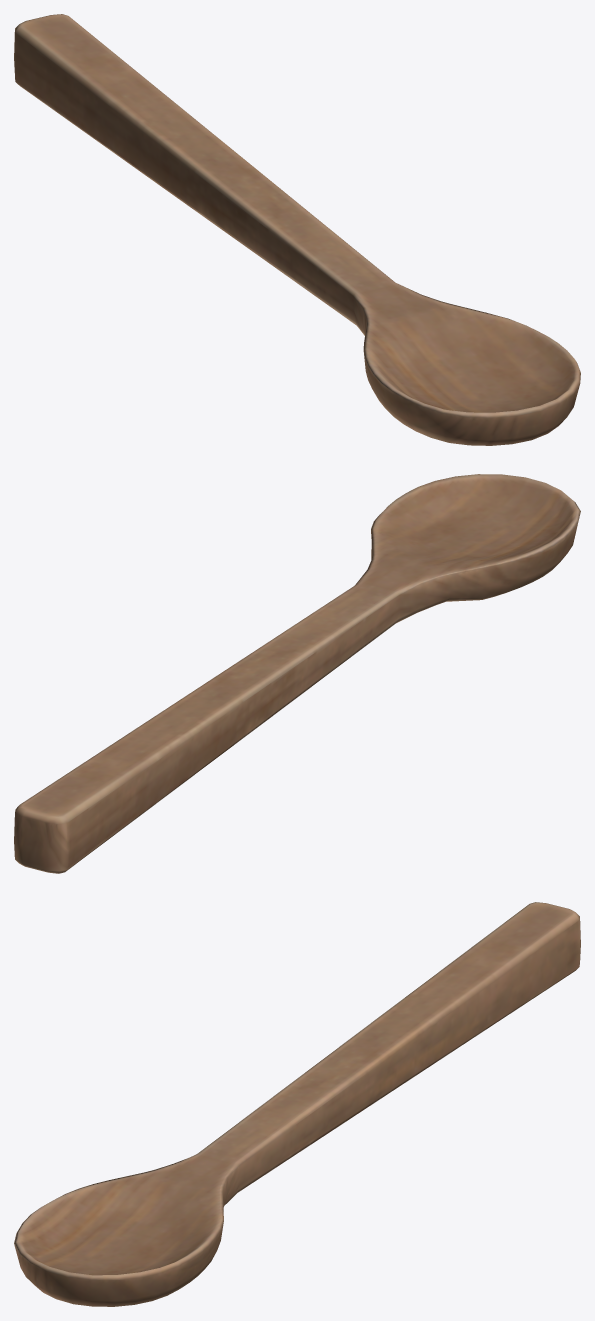
File: SM_KitchenUstensil_Spoon.fbx
3 views of the same model, one above another, from view 1: azimuth 30°, elevation 25°; view 2: azimuth 150°, elevation 25°; view 3: azimuth 330°, elevation 25° (orthographic). The views are drawn at different scales.
Parts seen in each view (by area): view 1: SM_KitchenUstensil_Spoon_LOD0; view 2: SM_KitchenUstensil_Spoon_LOD0; view 3: SM_KitchenUstensil_Spoon_LOD0.
Boxes of the visible parts, x1=… form: SM_KitchenUstensil_Spoon_LOD0: x1=14, y1=14, x2=580, y2=445; SM_KitchenUstensil_Spoon_LOD0: x1=14, y1=474, x2=580, y2=873; SM_KitchenUstensil_Spoon_LOD0: x1=14, y1=902, x2=580, y2=1306.
Bounding box in the file's own units: 9.62 × 49.05 × 3.14.
1 material, 1 textured.
